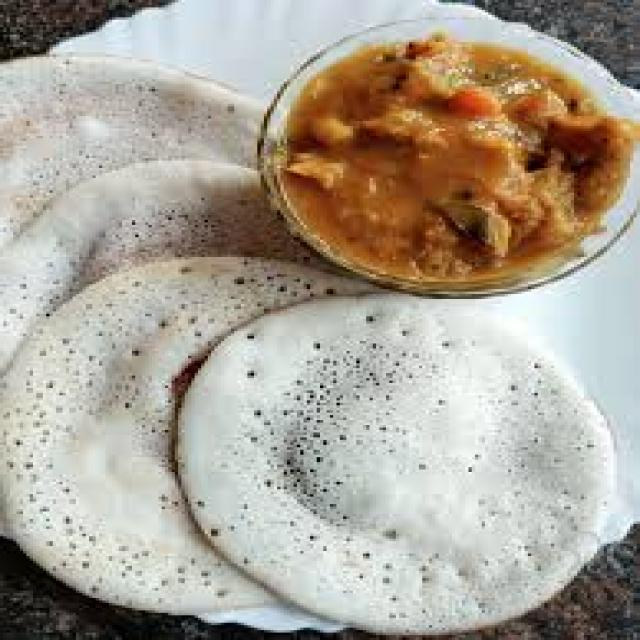Wet Waste: (13, 262, 459, 615), (182, 287, 614, 620)
